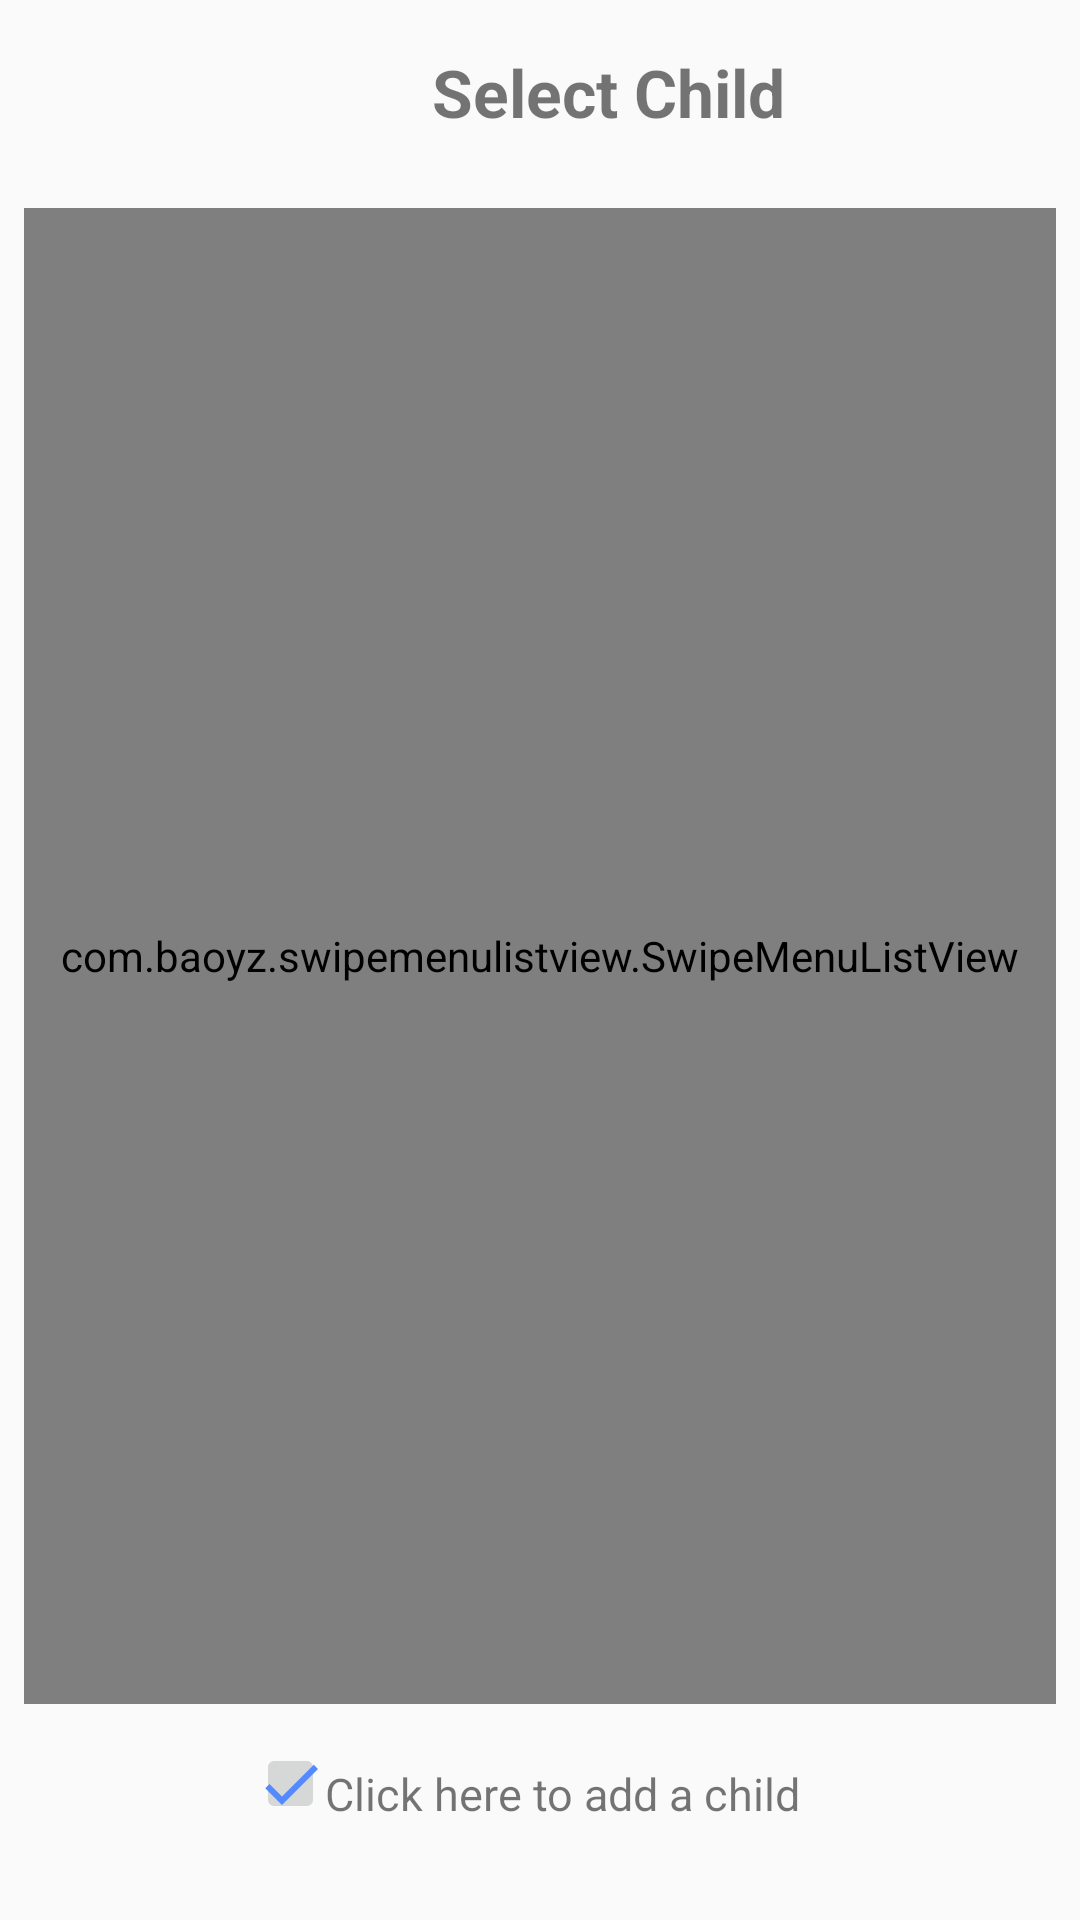

Icons on this 1080px×1920px Android screen, each with its box as [x1=x1, y1=y1, x2=x2, y2=y2]:
check: [x1=265, y1=1761, x2=318, y2=1806]
